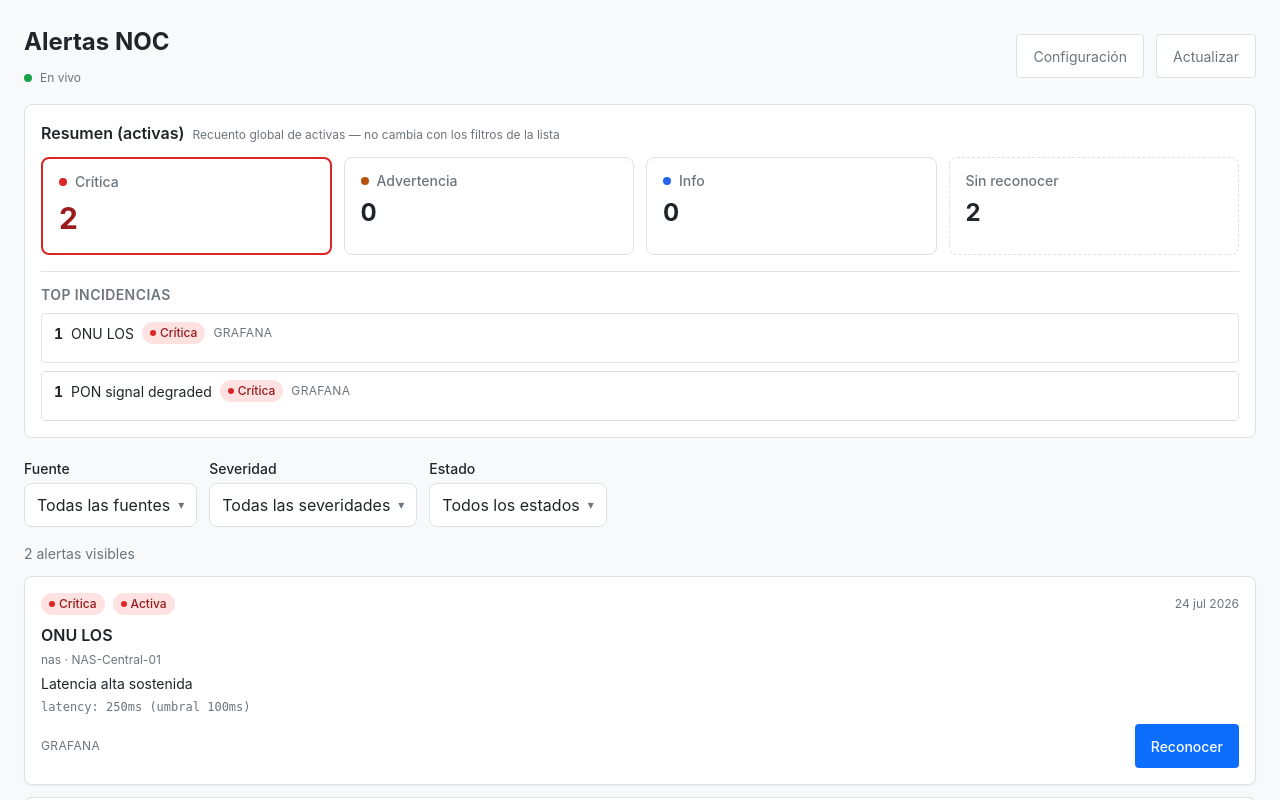
Scenario: ALP-11 incident type breakdown (top N) › clicking a type row toggles the alertname filter and narrows the visible list
What coordinates should you click on to do the following:
click the button "1 ONU LOS Crítica grafana"
I would click on:
 (102, 333)
Its box is [41,313,1239,363].
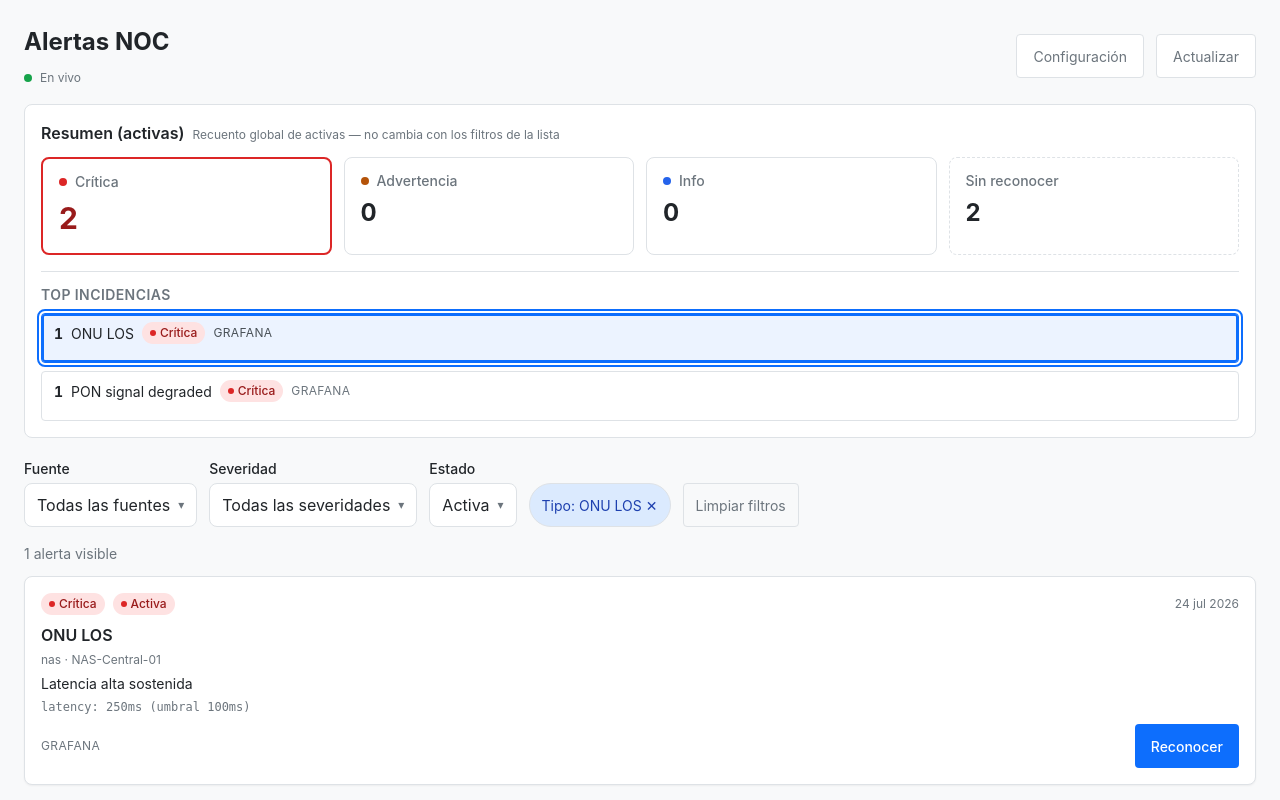
Result: the text "1 alerta visible" is shown at [24,545,117,562]
// "Limpiar filtros" quita también el filtro de tipo (mismo estado reusado).
What coordinates should you click on to do the following:
click the button "Limpiar filtros"
I would click on:
 (741, 505)
Its box is [682,483,799,527].
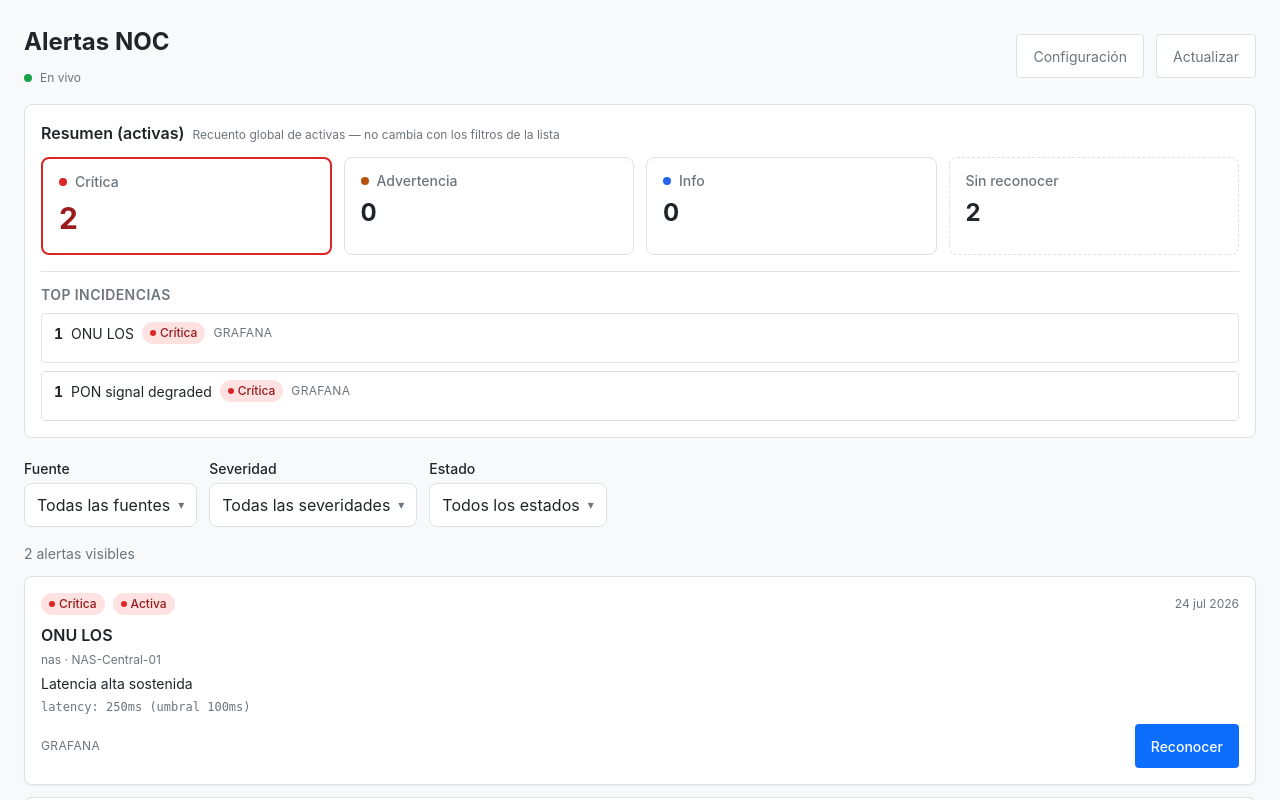
Result: the text "2 alertas visibles" is shown at [24,545,135,562]
